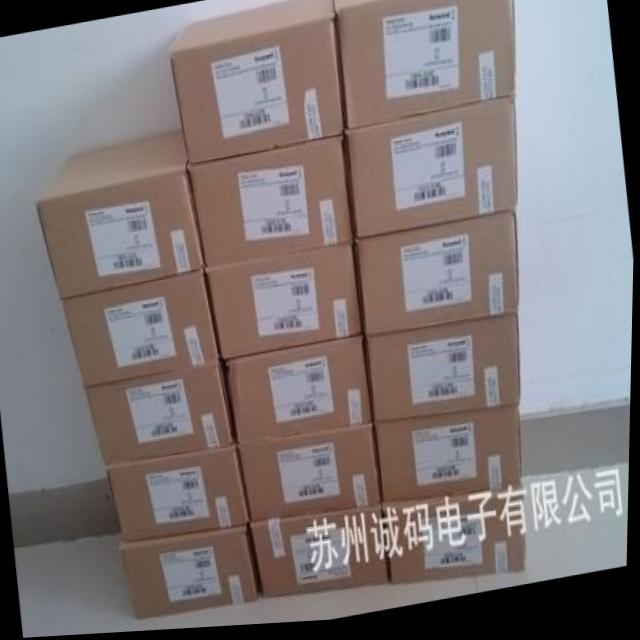box: (170, 0, 343, 166), (37, 130, 203, 301), (335, 0, 516, 133), (345, 104, 518, 242), (189, 140, 352, 270), (356, 222, 519, 337), (207, 245, 363, 361), (62, 274, 222, 387), (366, 320, 521, 427), (225, 340, 373, 446), (86, 367, 237, 464), (377, 412, 523, 507), (239, 432, 383, 525), (125, 528, 264, 624), (386, 497, 529, 590), (107, 451, 252, 542), (255, 512, 391, 599)
